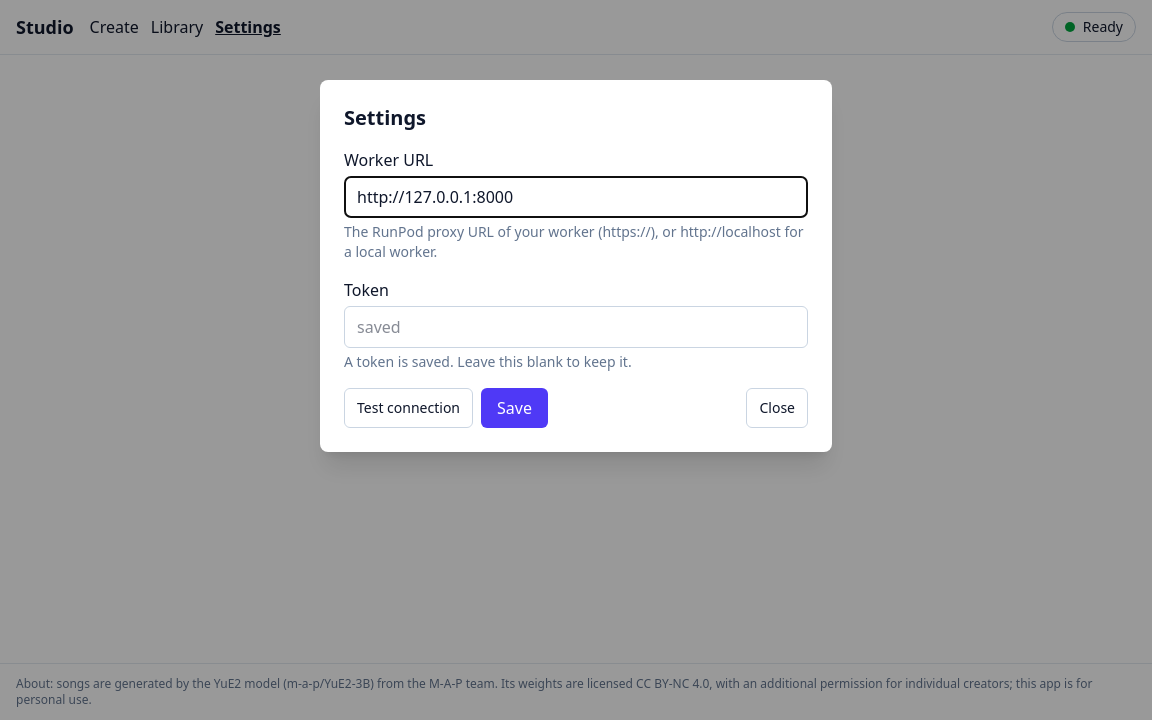
it: settings dialog (U-5) › a typed token is sent, and an http URL to another host is refused
Replace the text in the field labelled "Worker URL" with "http://example.com" at (576,197), box [344,176,808,218]
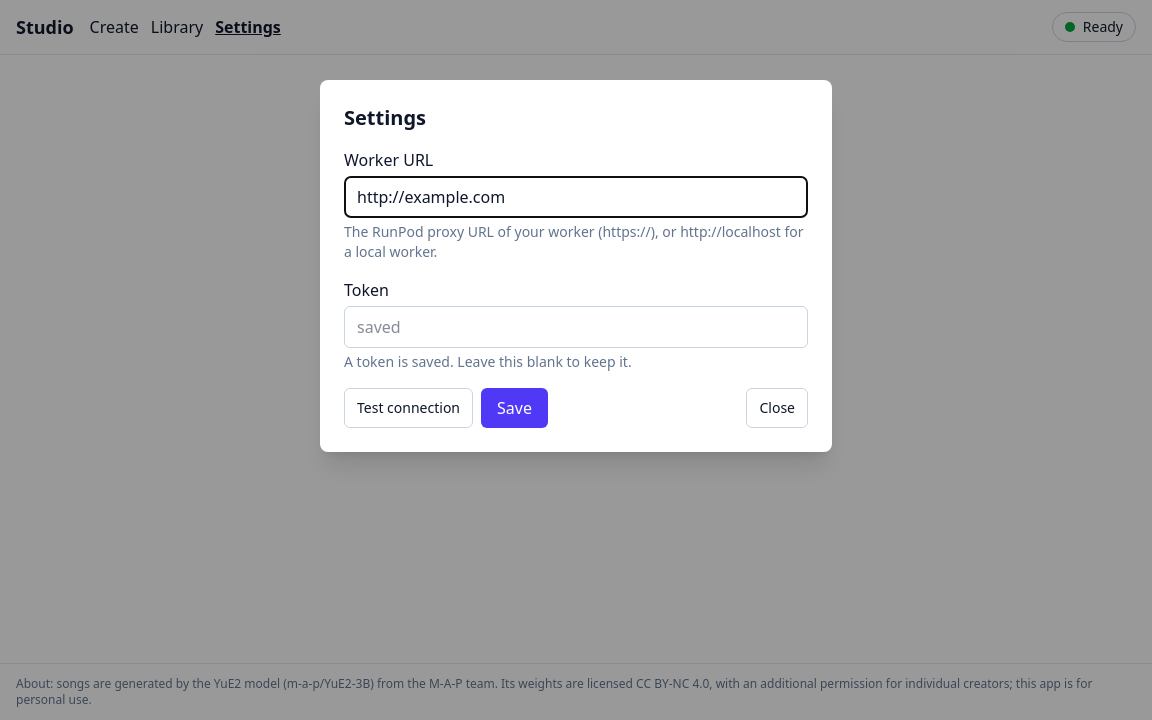
Click the button "Save".
click(514, 408)  # box [481,388,548,428]
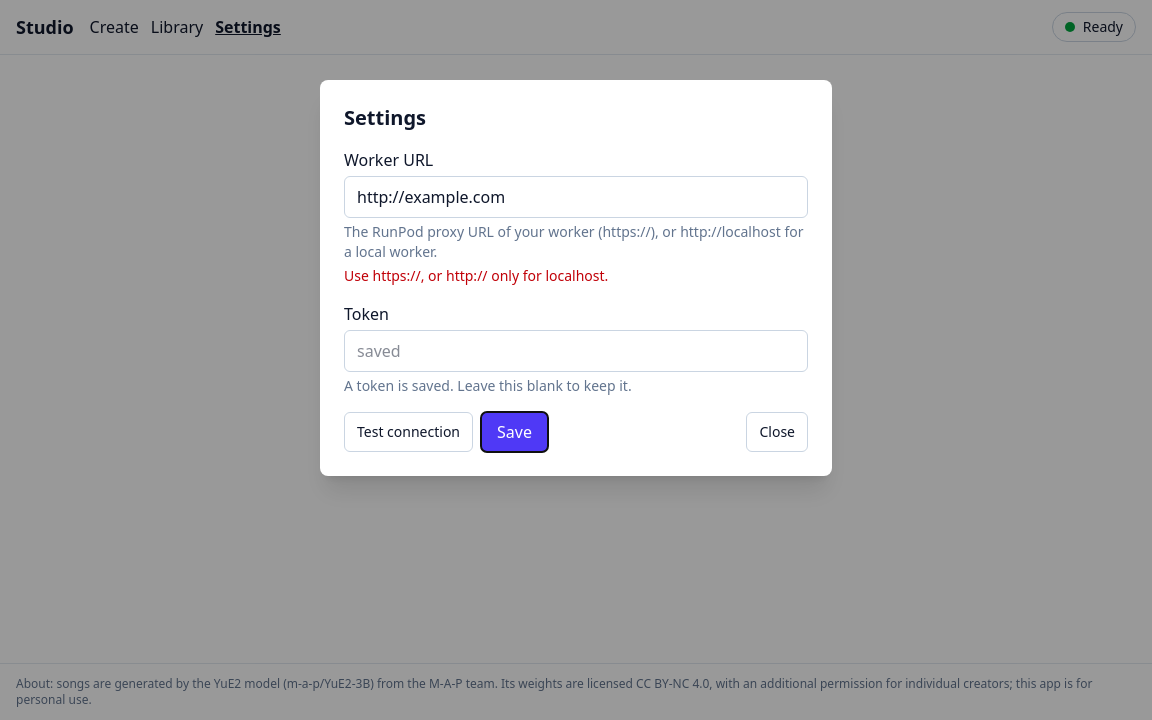
Expected: the text "Use https://, or http:// only for localhost." is shown, [344,266,608,285]
Replace the text in the field labelled "Worker URL" with "http://localhost:8000" at (576,197), box [344,176,808,218]
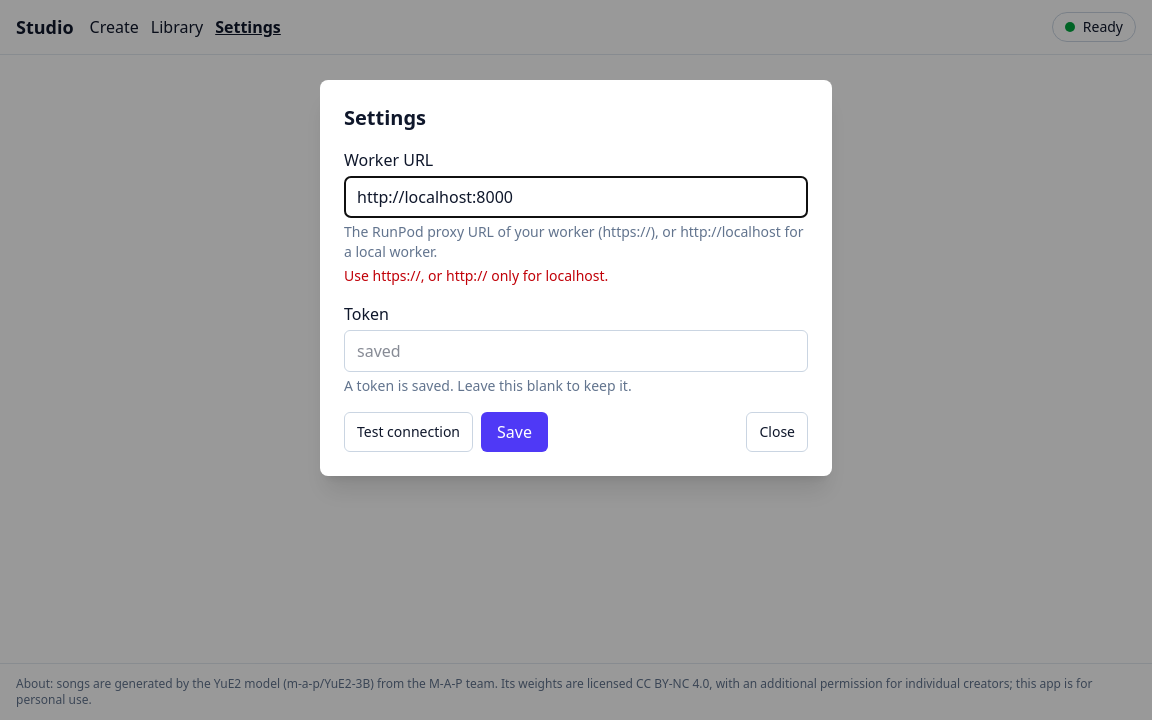
Type "s3cret-token" into the password field labelled "Token".
click(576, 351); type("s3cret-token")  # box [344,330,808,372]
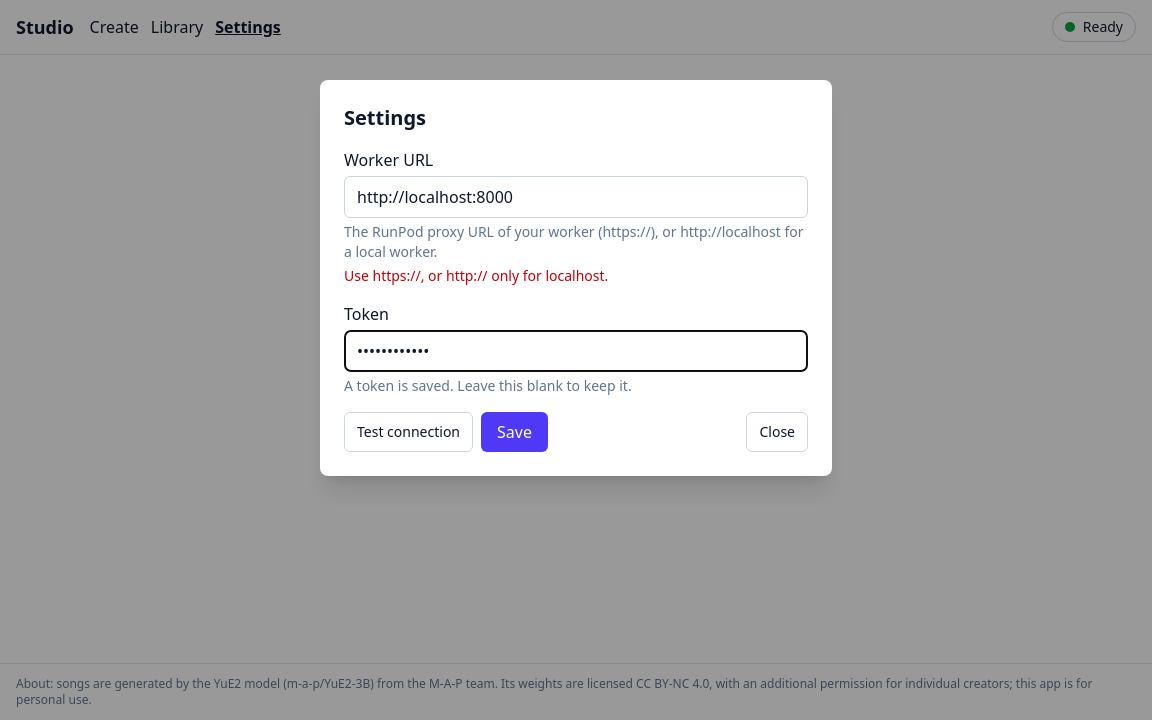
Click the button "Save".
click(514, 432)  # box [481,412,548,452]
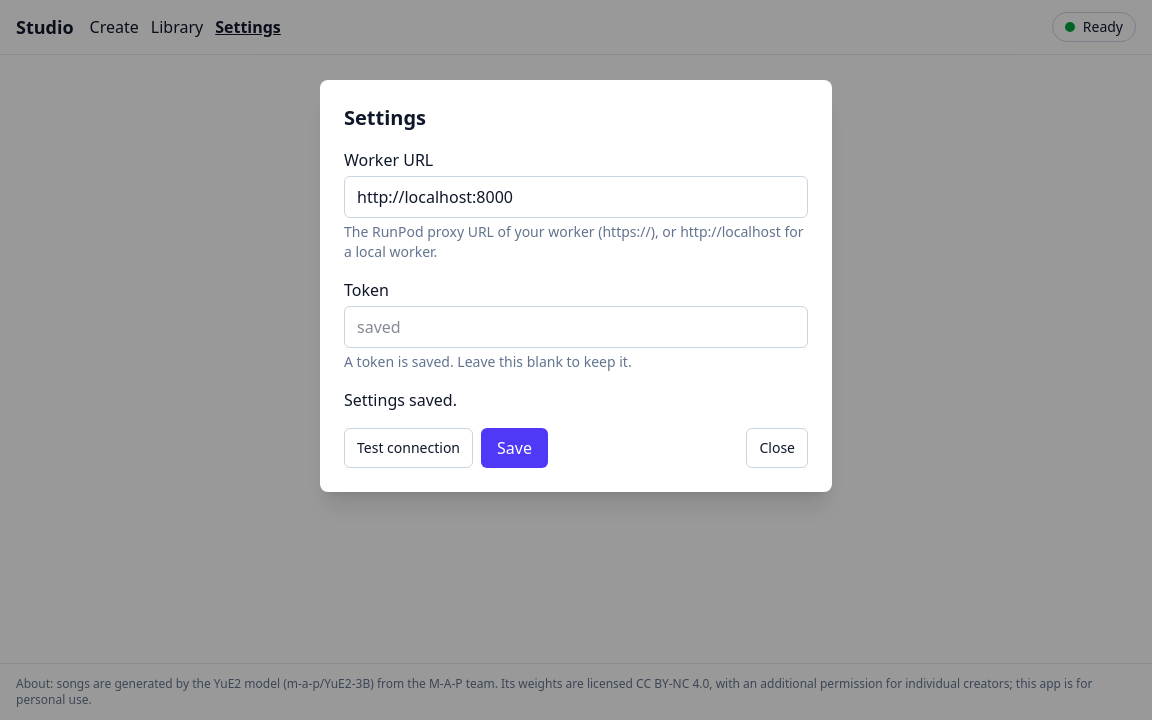
Expected: the text "Settings saved." is shown, [344,389,457,411]
Expected: the password field labelled "Token" is empty, [344,306,808,348]
